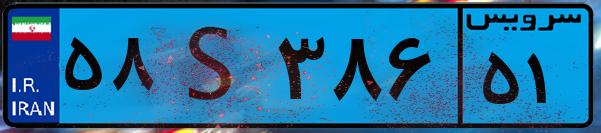1: (525, 38, 570, 115)
3: (270, 28, 330, 110)
5: (57, 26, 110, 100), (475, 38, 525, 113)
6: (385, 28, 445, 110)
8: (330, 28, 385, 110), (110, 28, 158, 98)
S: (158, 12, 270, 120)
